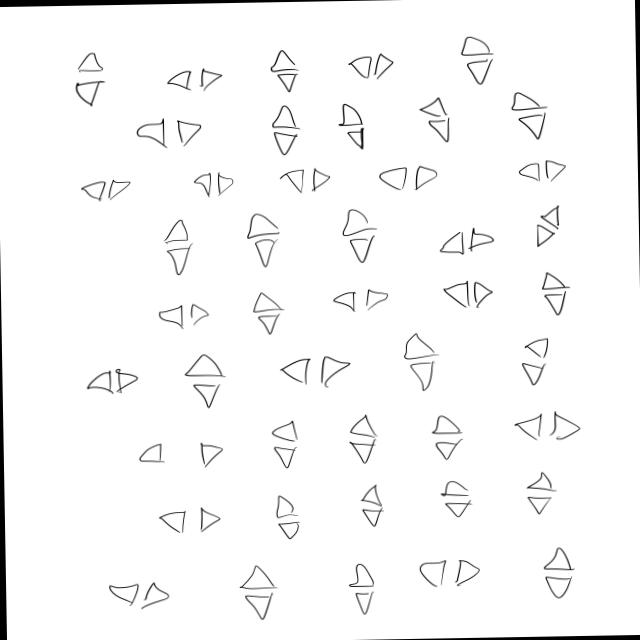IncDec: (166, 342, 247, 414), (226, 550, 292, 632), (486, 400, 582, 452), (128, 427, 234, 473), (413, 541, 494, 600), (268, 344, 355, 392), (499, 317, 558, 387), (329, 408, 388, 477), (331, 554, 398, 614), (390, 332, 453, 393), (430, 265, 505, 316), (150, 208, 201, 283), (234, 200, 287, 272), (436, 24, 496, 86), (329, 198, 385, 264), (536, 536, 590, 604), (328, 274, 398, 324), (426, 463, 485, 522), (430, 220, 510, 262), (332, 42, 408, 86), (125, 117, 214, 153), (158, 494, 226, 541), (260, 487, 316, 544), (235, 286, 291, 343), (61, 356, 144, 394), (496, 89, 553, 140), (368, 158, 452, 192), (503, 150, 582, 186), (65, 42, 108, 108), (266, 159, 347, 194), (146, 290, 213, 332), (520, 262, 574, 314), (104, 572, 173, 612), (182, 165, 254, 202), (518, 466, 566, 520), (421, 408, 470, 459), (526, 198, 574, 250), (148, 64, 228, 95), (346, 470, 391, 525), (330, 98, 376, 151), (412, 94, 457, 147), (264, 411, 303, 472), (72, 168, 136, 205), (264, 102, 300, 158), (263, 49, 301, 92)
